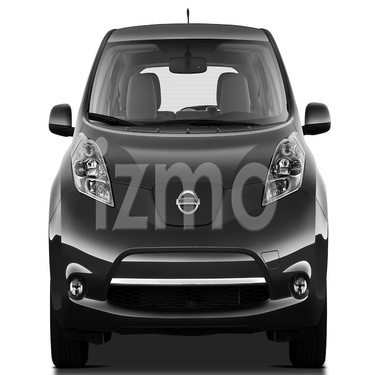car: (27, 5, 340, 370)
